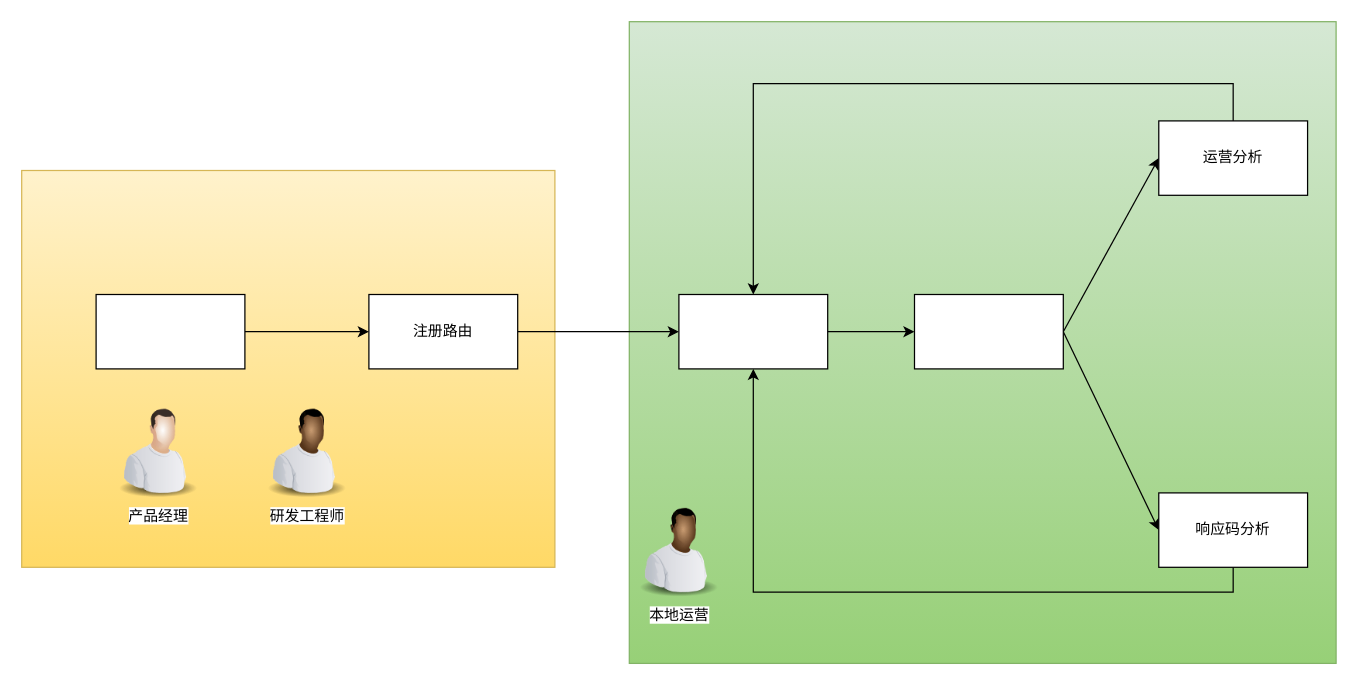
This 1358x686 diagram has some shape labels left out. The shapes that lost their labels are listed below. From the top down, each one's centre as x and y in pixels, then its label:
At point (170, 331): "渠道集成".
At point (753, 331): "路由策略".
At point (988, 331): "指标采集".
